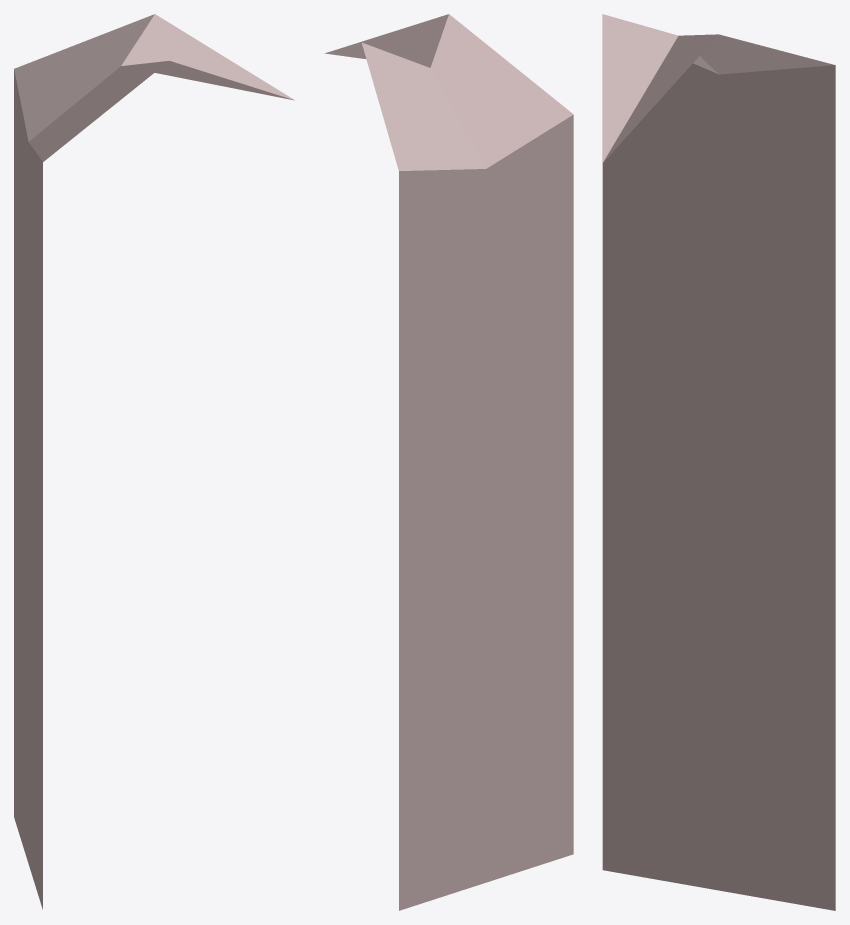
File: BRailTrim45.fbx
The picture shows the model from 3 angles, left to right: view 1: azimuth 30°, elevation 25°; view 2: azimuth 150°, elevation 25°; view 3: azimuth 270°, elevation 25°; orthographic projection. The views are drawn at different scales.
Visible parts, largest first — view 1: BRailTrim45; view 2: BRailTrim45; view 3: BRailTrim45.
Boxes of the visible parts, x1,y1,x2,y2 form: BRailTrim45: (14, 14, 294, 909); BRailTrim45: (324, 14, 573, 910); BRailTrim45: (602, 14, 835, 910).
Size of the model in its own units: 50 by 155 by 35.36.
